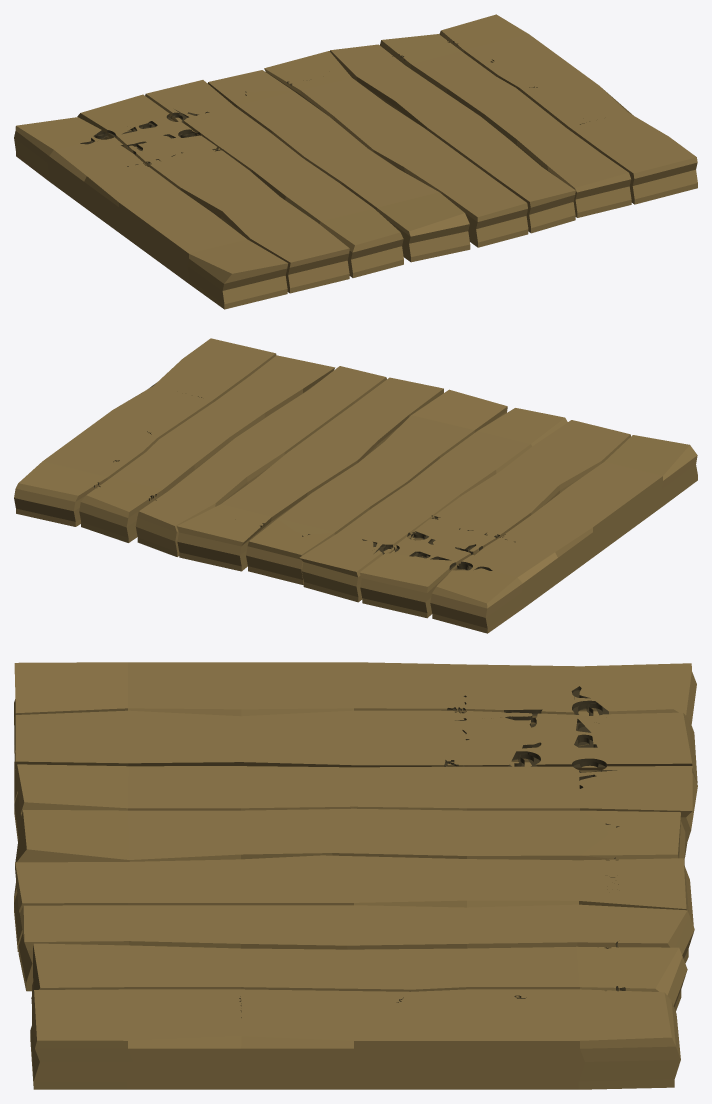
The model's file is mokkanUI2.fbx.
3 views of the same model, one above another, from view 1: azimuth 30°, elevation 25°; view 2: azimuth 150°, elevation 25°; view 3: azimuth 270°, elevation 25° (orthographic). The views are drawn at different scales.
Parts seen in each view (by area): view 1: Plane; view 2: Plane; view 3: Plane.
Boxes of the visible parts, x1,y1,x2,y2 form: Plane: (14, 14, 697, 309); Plane: (14, 338, 697, 633); Plane: (14, 662, 697, 1089).
Bounding box in the file's own units: 0.1758 × 0.0121 × 0.1342.
